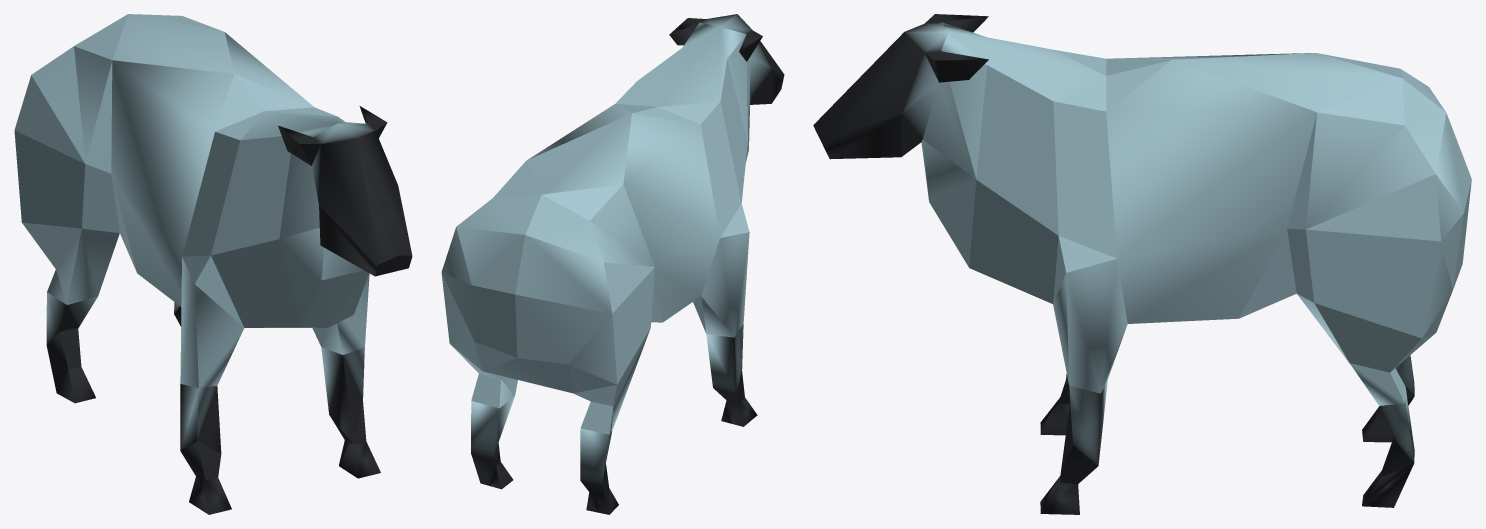
File: cc0-sheep-lod1.glb
The picture shows the model from 3 angles, left to right: view 1: azimuth 30°, elevation 25°; view 2: azimuth 150°, elevation 25°; view 3: azimuth 270°, elevation 25°; orthographic projection. The views are drawn at different scales.
Parts seen in each view (by area): view 1: part_0; view 2: part_0; view 3: part_0.
Boxes of the visible parts, box(x1,y1,x2,y2) form: part_0: box(14, 14, 412, 514); part_0: box(441, 14, 784, 514); part_0: box(813, 14, 1471, 514).
Size of the model in its own units: 2.23 by 4.33 by 5.92.
